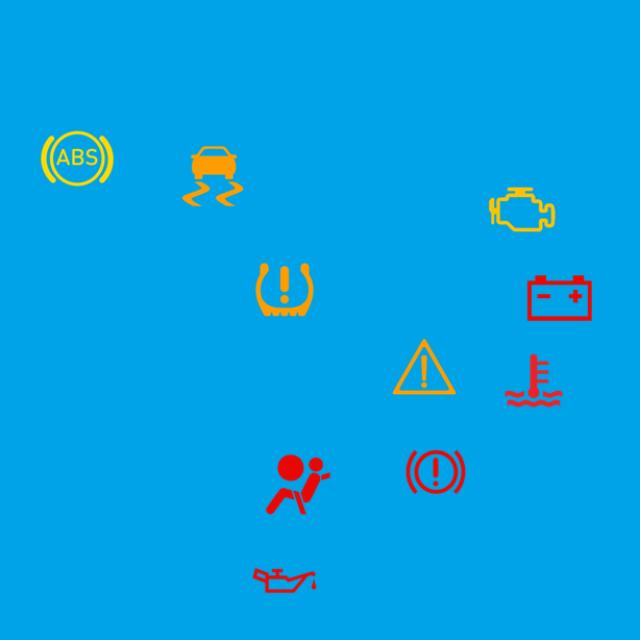Anti Lock Braking System: (38, 119, 116, 198)
Braking System Issue: (396, 432, 475, 512)
Charging System Issue: (520, 258, 599, 338)
Check Engine: (482, 170, 562, 249)
Electronic Stability Problem -ESP-: (173, 137, 252, 216)
Engine Overheating Warning Light: (494, 341, 573, 420)
Low Engine Oil Warning Light: (245, 541, 324, 620)
Low Tire Pressure Warning Light: (245, 250, 324, 330)
Master warning light: (384, 328, 464, 407)
SRS-Airbag: (258, 445, 338, 524)
